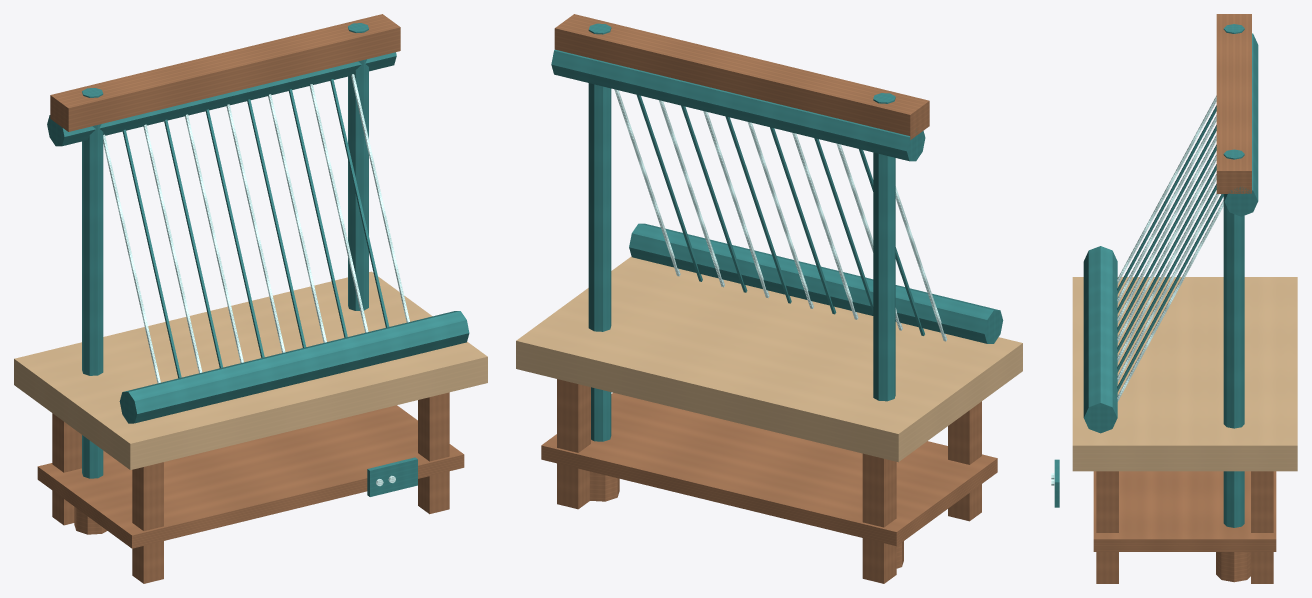
File: atlas100-s093-a02.glb
The picture shows the model from 3 angles, left to right: view 1: azimuth 30°, elevation 25°; view 2: azimuth 150°, elevation 25°; view 3: azimuth 270°, elevation 25°; orthographic projection. The views are drawn at different scales.
Parts seen in each view (by area): view 1: atlas100-s093-a02:part-004, atlas100-s093-a02:part-005, atlas100-s093-a02:part-010, atlas100-s093-a02:part-024, atlas100-s093-a02:part-006, atlas100-s093-a02:part-008, atlas100-s093-a02:part-025, atlas100-s093-a02:part-003, atlas100-s093-a02:part-001, atlas100-s093-a02:part-000, atlas100-s093-a02:part-026, atlas100-s093-a02:part-013 (+12 smaller); view 2: atlas100-s093-a02:part-004, atlas100-s093-a02:part-005, atlas100-s093-a02:part-010, atlas100-s093-a02:part-024, atlas100-s093-a02:part-025, atlas100-s093-a02:part-008, atlas100-s093-a02:part-006, atlas100-s093-a02:part-000, atlas100-s093-a02:part-002, atlas100-s093-a02:part-001, atlas100-s093-a02:part-023, atlas100-s093-a02:part-015 (+10 smaller); view 3: atlas100-s093-a02:part-004, atlas100-s093-a02:part-005, atlas100-s093-a02:part-024, atlas100-s093-a02:part-010, atlas100-s093-a02:part-008, atlas100-s093-a02:part-002, atlas100-s093-a02:part-003, atlas100-s093-a02:part-025, atlas100-s093-a02:part-009, atlas100-s093-a02:part-023, atlas100-s093-a02:part-022, atlas100-s093-a02:part-021 (+10 smaller).
Part boxes in pixels (bbox=[...]): atlas100-s093-a02:part-004: bbox=[14, 271, 487, 469]; atlas100-s093-a02:part-005: bbox=[37, 405, 464, 548]; atlas100-s093-a02:part-010: bbox=[50, 14, 400, 131]; atlas100-s093-a02:part-024: bbox=[119, 311, 469, 423]; atlas100-s093-a02:part-006: bbox=[82, 88, 103, 478]; atlas100-s093-a02:part-008: bbox=[348, 23, 368, 310]; atlas100-s093-a02:part-025: bbox=[47, 52, 396, 146]; atlas100-s093-a02:part-003: bbox=[418, 392, 449, 514]; atlas100-s093-a02:part-001: bbox=[132, 462, 163, 583]; atlas100-s093-a02:part-000: bbox=[52, 413, 81, 525]; atlas100-s093-a02:part-026: bbox=[367, 457, 417, 496]; atlas100-s093-a02:part-013: bbox=[143, 124, 202, 373]; atlas100-s093-a02:part-004: bbox=[516, 256, 1022, 462]; atlas100-s093-a02:part-005: bbox=[541, 392, 997, 546]; atlas100-s093-a02:part-010: bbox=[554, 14, 929, 139]; atlas100-s093-a02:part-024: bbox=[629, 223, 1003, 343]; atlas100-s093-a02:part-025: bbox=[551, 49, 925, 161]; atlas100-s093-a02:part-008: bbox=[588, 23, 611, 441]; atlas100-s093-a02:part-006: bbox=[873, 93, 895, 401]; atlas100-s093-a02:part-000: bbox=[862, 453, 896, 583]; atlas100-s093-a02:part-002: bbox=[557, 379, 590, 509]; atlas100-s093-a02:part-001: bbox=[948, 401, 981, 521]; atlas100-s093-a02:part-023: bbox=[614, 89, 680, 276]; atlas100-s093-a02:part-015: bbox=[792, 132, 858, 319]; atlas100-s093-a02:part-004: bbox=[1072, 277, 1297, 471]; atlas100-s093-a02:part-005: bbox=[1093, 471, 1276, 551]; atlas100-s093-a02:part-024: bbox=[1083, 246, 1117, 433]; atlas100-s093-a02:part-010: bbox=[1216, 14, 1251, 193]; atlas100-s093-a02:part-008: bbox=[1223, 149, 1244, 527]; atlas100-s093-a02:part-002: bbox=[1251, 471, 1273, 583]; atlas100-s093-a02:part-003: bbox=[1096, 471, 1118, 583]; atlas100-s093-a02:part-025: bbox=[1224, 33, 1258, 216]; atlas100-s093-a02:part-009: bbox=[1216, 552, 1250, 582]; atlas100-s093-a02:part-023: bbox=[1117, 200, 1223, 401]; atlas100-s093-a02:part-022: bbox=[1117, 194, 1223, 391]; atlas100-s093-a02:part-021: bbox=[1117, 193, 1219, 381].
Size of the model in its own units: 2.84 by 3.3 by 1.75.
4 materials, 4 textured.
